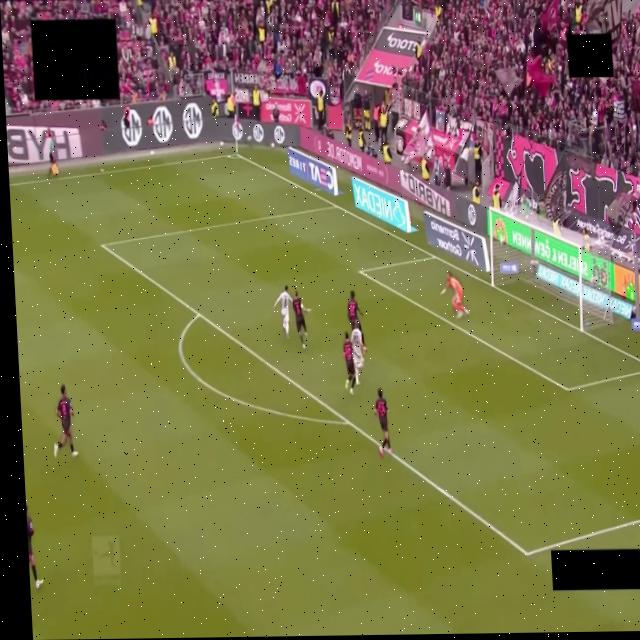player: (53, 384, 77, 456), (26, 506, 42, 589), (441, 273, 468, 317), (374, 388, 391, 456), (292, 292, 310, 349), (273, 285, 291, 338), (351, 321, 365, 385), (342, 331, 356, 394), (347, 291, 362, 330)
